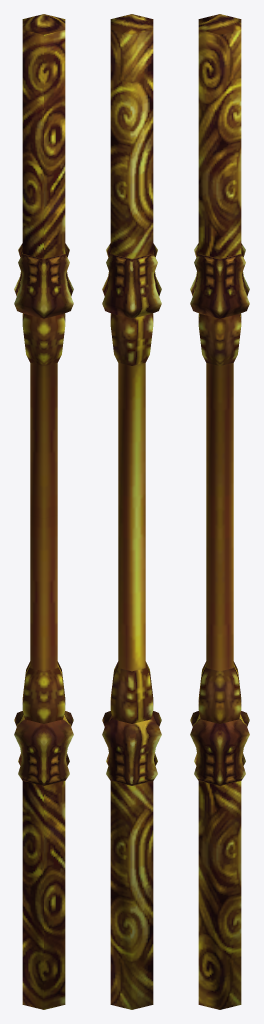
Rendered from weaponC001.FBX.
The picture shows the model from 3 angles, left to right: view 1: azimuth 90°, elevation 25°; view 2: azimuth 210°, elevation 25°; view 3: azimuth 270°, elevation 25°; orthographic projection.
Visible parts, largest first — view 1: phw_weaponA015; view 2: phw_weaponA015; view 3: phw_weaponA015.
Boxes of the visible parts, x1=… form: phw_weaponA015: x1=14, y1=14, x2=73, y2=1009; phw_weaponA015: x1=102, y1=14, x2=161, y2=1009; phw_weaponA015: x1=190, y1=14, x2=249, y2=1009.
Bounding box in the file's own units: 13.27 × 211 × 11.49.
Materials: 1 (1 with a texture image).
